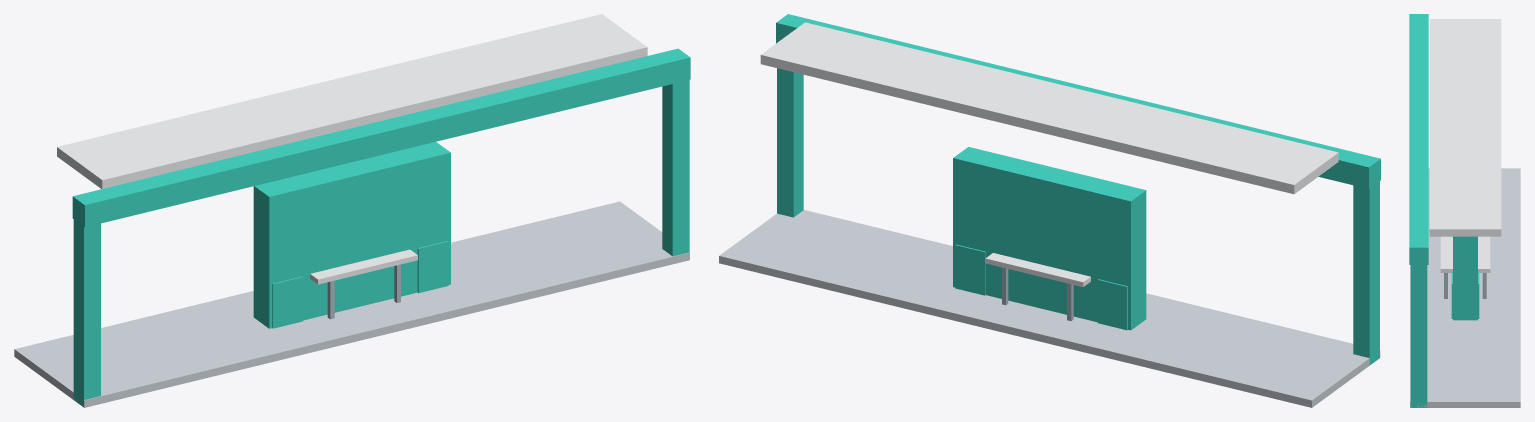
The picture shows the model from 3 angles, left to right: view 1: azimuth 30°, elevation 25°; view 2: azimuth 150°, elevation 25°; view 3: azimuth 270°, elevation 25°; orthographic projection. The views are drawn at different scales.
Visible parts, largest first — view 1: Exhibition Booth Concept; view 2: Exhibition Booth Concept; view 3: Exhibition Booth Concept.
Part boxes in pixels (x1,y1,x2,y2): Exhibition Booth Concept: [14, 14, 690, 407]; Exhibition Booth Concept: [719, 14, 1380, 407]; Exhibition Booth Concept: [1409, 14, 1520, 407].
Size of the model in its own units: 10 by 3.34 by 2.01.
